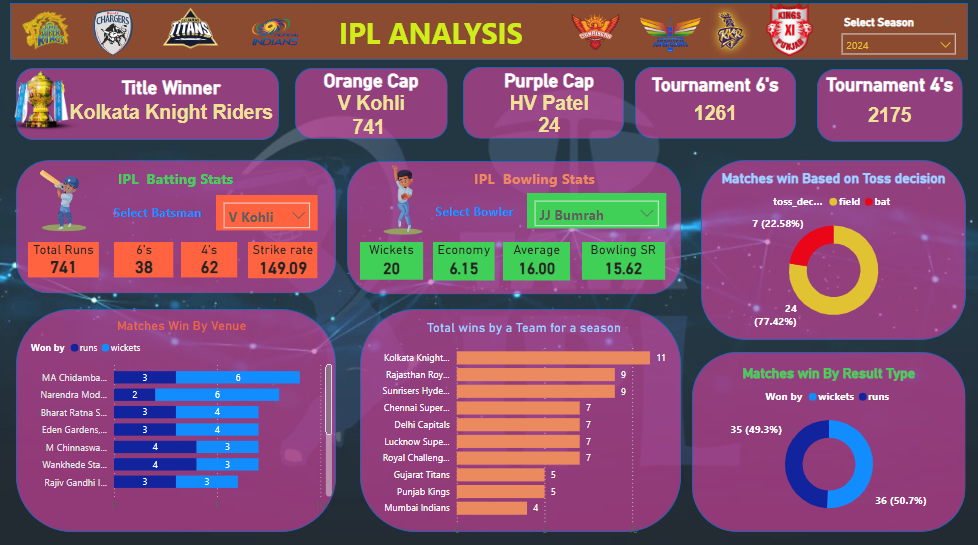

This screenshot's page, from the dashboard's own definition file:
{"tool":"powerbi","page":{"name":"Page 1","canvas":[1280,720],"ordinal":0},"visuals":[{"type":"shape","box":[18.4,5.7,1244.4,73.7],"z":0},{"type":"textbox","box":[440.8,12.8,263.6,60.9],"z":1000},{"type":"slicer","fields":{"Values":["Calander Table.Year"]},"box":[1087.9,17.2,167.7,61.6],"z":2000},{"type":"shape","box":[25.5,89.3,341.6,93.5],"z":3000},{"type":"shape","box":[388.3,89.3,198.4,92.1],"z":4000},{"type":"shape","box":[1066.4,90.3,189.2,94.6],"z":5000},{"type":"shape","box":[606.3,88.9,209.3,93.2],"z":6000},{"type":"card","title":"Title Winner","fields":{"Values":["matches.Title Winner"]},"box":[81.7,101.8,291,64.5],"z":7000},{"type":"card","title":"Orange Cap","fields":{"Values":["deliveries.batter"]},"box":[388.4,91.7,197.8,58.8],"z":8000},{"type":"card","title":"Orange Cap","fields":{"Values":["deliveries.batsman_runs"]},"box":[399.9,146.2,167.7,40.1],"z":9000},{"type":"card","title":"Purple Cap","fields":{"Values":["deliveries.bowler"]},"box":[620.6,91.7,194.9,58.8],"z":10000},{"type":"card","title":"Purple Cap","fields":{"Values":["deliveries.is_wicket"]},"box":[647.9,146.2,140.5,35.8],"z":11000},{"type":"shape","box":[829.9,88.9,209.3,93.2],"z":12000},{"type":"card","title":"Tournament 6''s","fields":{"Values":["deliveries.batsman_runs"]},"box":[834.2,97.5,200.7,76],"z":13000},{"type":"card","title":"Tournament 4''s","fields":{"Values":["deliveries.batsman_runs"]},"box":[1069.3,97.5,183.5,80.3],"z":14000},{"type":"shape","box":[25.8,209.3,415.7,173.4],"z":15000},{"type":"shape","box":[455.8,210.7,434.3,173.4],"z":16000},{"type":"slicer","fields":{"Values":["deliveries.batter"]},"box":[285.2,255.1,131.9,45.9],"z":17000},{"type":"card","title":"Total Runs","fields":{"Values":["deliveries.batsman_runs"]},"box":[41.6,315.3,91.7,45.9],"z":18000},{"type":"card","title":"6''s","fields":{"Values":["deliveries.batsman_runs"]},"box":[153.4,315.3,77.4,45.9],"z":19000},{"type":"card","title":"4''s","fields":{"Values":["deliveries.batsman_runs"]},"box":[240.8,315.3,73.1,45.9],"z":20000},{"type":"card","title":"Strike  rate","fields":{"Values":["deliveries.Strike rate for batsman"]},"box":[326.8,315.3,90.3,47.3],"z":21000},{"type":"textbox","box":[147.6,260.9,146.2,35.8],"z":22000},{"type":"textbox","box":[153.4,215,173.4,50.2],"z":23000},{"type":"slicer","fields":{"Values":["deliveries.bowler"]},"box":[689.5,252.3,180.6,45.9],"z":24000},{"type":"card","title":"Wickets","fields":{"Values":["deliveries.is_wicket"]},"box":[473,315.3,81.7,48.7],"z":25000},{"type":"card","title":"Economy","fields":{"Values":["deliveries.Economy"]},"box":[567.6,315.3,80.3,50.2],"z":26000},{"type":"card","title":"Average","fields":{"Values":["deliveries.Average by Bowler"]},"box":[657.9,315.3,87.4,50.2],"z":27000},{"type":"card","title":"Bowling SR","fields":{"Values":["deliveries.Bowling SR"]},"box":[761.1,315.3,107.5,48.7],"z":28000},{"type":"textbox","box":[615.1,215.4,201.3,39.7],"z":29000},{"type":"textbox","box":[566.2,259.4,120.4,35.8],"z":30000},{"type":"shape","box":[915.9,209.3,344,233.6],"z":31000},{"type":"donutChart","title":"Matches win Based on Toss decision","fields":{"Y":["matches.Matches win on toss decision"],"Category":["matches.toss_decision"]},"box":[927.4,222.2,321.1,210.7],"z":32000},{"type":"shape","box":[904.5,458.7,355.5,233.6],"z":33000},{"type":"donutChart","title":"Matches win By Result Type","fields":{"Y":["matches.id"],"Category":["matches.result"]},"box":[915.9,475.9,332.5,207.8],"z":34000},{"type":"shape","box":[25.8,402.8,415.7,289.5],"z":35000},{"type":"shape","box":[473,402.8,417.1,289.5],"z":36000},{"type":"barChart","title":"Matches Win By Venue","fields":{"Category":["matches.venue"],"Y":["matches.id"],"Series":["matches.result"]},"box":[39.7,413.9,401.1,260.8],"z":37000},{"type":"barChart","title":"Total wins by a Team  for a season","fields":{"Category":["matches.winner"],"Y":["matches.winner"]},"box":[484.5,417.1,402.8,291],"z":37001},{"type":"image","box":[1.4,72.3,119.1,120.5],"z":37002},{"type":"image","box":[18.6,197.8,137.6,129],"z":37003},{"type":"image","box":[450.1,192.1,156.2,137.6],"z":37004},{"type":"image","box":[25.5,1.4,76.5,79.4],"z":37005},{"type":"image","box":[120.5,8.5,62.4,69.4],"z":37006},{"type":"image","box":[211.2,1.4,82.2,72.3],"z":37007},{"type":"image","box":[915.6,1.4,78,80.8],"z":37008},{"type":"image","box":[830.6,14.2,89.3,63.8],"z":37009},{"type":"image","box":[326,7.1,73.7,69.4],"z":37010},{"type":"image","box":[993.3,0,73.1,78.8],"z":37011},{"type":"image","box":[741.3,7.1,73.7,72.3],"z":37012}]}

Visuals, with their boxes in screenshot pixels (x1, y1, x2, y2), scaled from the page's 1280x720 canvas onto the 978x545 screenshot:
shape: rect(14, 4, 965, 60)
textbox: rect(337, 10, 538, 56)
slicer - Calander Table.Year: rect(831, 13, 959, 60)
shape: rect(19, 68, 280, 138)
shape: rect(297, 68, 448, 137)
shape: rect(815, 68, 959, 140)
shape: rect(463, 67, 623, 138)
"Title Winner" card: rect(62, 77, 285, 126)
"Orange Cap" card: rect(297, 69, 448, 114)
"Orange Cap" card: rect(306, 111, 434, 141)
"Purple Cap" card: rect(474, 69, 623, 114)
"Purple Cap" card: rect(495, 111, 602, 138)
shape: rect(634, 67, 794, 138)
"Tournament 6''s" card: rect(637, 74, 791, 131)
"Tournament 4''s" card: rect(817, 74, 957, 135)
shape: rect(20, 158, 337, 290)
shape: rect(348, 159, 680, 291)
slicer - deliveries.batter: rect(218, 193, 319, 228)
"Total Runs" card: rect(32, 239, 102, 273)
"6''s" card: rect(117, 239, 176, 273)
"4''s" card: rect(184, 239, 240, 273)
"Strike  rate" card: rect(250, 239, 319, 274)
textbox: rect(113, 197, 224, 225)
textbox: rect(117, 163, 250, 201)
slicer - deliveries.bowler: rect(527, 191, 665, 226)
"Wickets" card: rect(361, 239, 424, 276)
"Economy" card: rect(434, 239, 495, 277)
"Average" card: rect(503, 239, 569, 277)
"Bowling SR" card: rect(582, 239, 664, 276)
textbox: rect(470, 163, 624, 193)
textbox: rect(433, 196, 525, 223)
shape: rect(700, 158, 963, 335)
"Matches win Based on Toss decision" donutChart: rect(709, 168, 954, 328)
shape: rect(691, 347, 963, 524)
"Matches win By Result Type" donutChart: rect(700, 360, 954, 518)
shape: rect(20, 305, 337, 524)
shape: rect(361, 305, 680, 524)
"Matches Win By Venue" barChart: rect(30, 313, 337, 511)
"Total wins by a Team  for a season" barChart: rect(370, 316, 678, 536)
image: rect(1, 55, 92, 146)
image: rect(14, 150, 119, 247)
image: rect(344, 145, 463, 250)
image: rect(19, 1, 78, 61)
image: rect(92, 6, 140, 59)
image: rect(161, 1, 224, 56)
image: rect(700, 1, 759, 62)
image: rect(635, 11, 703, 59)
image: rect(249, 5, 305, 58)
image: rect(759, 0, 815, 60)
image: rect(566, 5, 623, 60)
